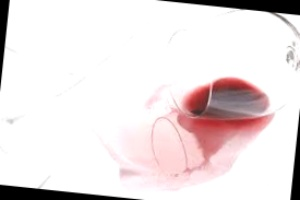wine: (91, 87, 241, 195), (153, 78, 271, 145), (119, 170, 179, 200)
